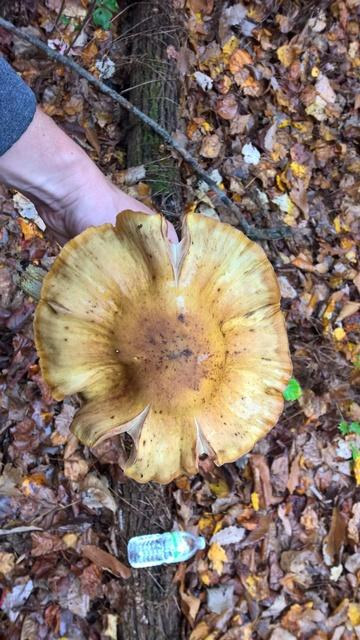Edible Mushroom: (31, 208, 293, 485)
